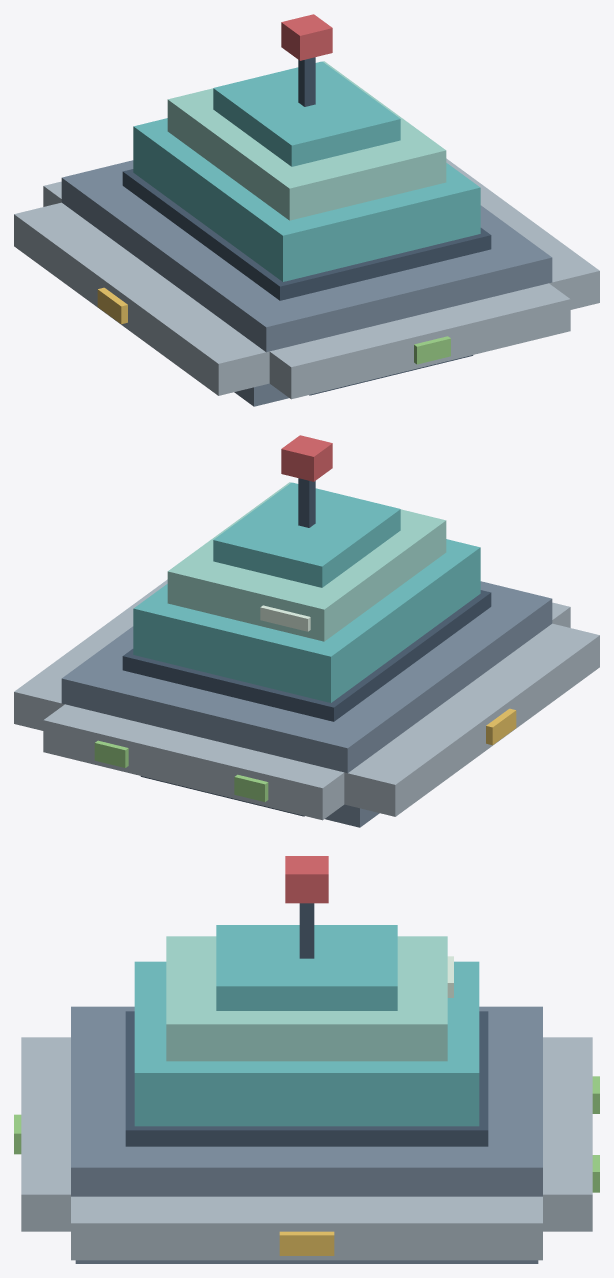
File: ufo_hat.glb
3 renders of one model, top to bottom at view 1: azimuth 30°, elevation 25°; view 2: azimuth 150°, elevation 25°; view 3: azimuth 270°, elevation 25°, orthographic. The views are drawn at different scales.
Parts seen in each view (by area): view 1: upper_saucer, cockpit_lower, wide_saucer_rim, cockpit_upper, back_saucer_rim, cockpit_top, cockpit_frame, antenna_beacon, antenna, rear_green_light, left_amber_light, saucer_belly; view 2: upper_saucer, cockpit_lower, wide_saucer_rim, cockpit_upper, front_saucer_rim, cockpit_top, cockpit_frame, antenna_beacon, antenna, cockpit_highlight, front_green_light_left, front_green_light_right (+2 smaller); view 3: upper_saucer, wide_saucer_rim, cockpit_lower, cockpit_upper, cockpit_top, cockpit_frame, front_saucer_rim, back_saucer_rim, antenna_beacon, saucer_belly, right_amber_light, antenna.
Boxes of the visible parts, x1,y1,x2,y2 form: upper_saucer: (61,160,552,352); cockpit_lower: (133,118,480,281); wide_saucer_rim: (14,158,599,395); cockpit_upper: (167,61,446,220); back_saucer_rim: (269,283,570,399); cockpit_top: (213,61,400,166); cockpit_frame: (122,169,491,300); antenna_beacon: (281,14,332,60); antenna: (298,57,315,106); rear_green_light: (414,336,450,364); left_amber_light: (97,287,127,324); saucer_belly: (234,383,288,406); upper_saucer: (61,581,552,773); cockpit_lower: (133,539,480,702); wide_saucer_rim: (14,579,599,816); cockpit_upper: (167,482,446,641); front_saucer_rim: (43,704,344,820); cockpit_top: (213,482,400,587); cockpit_frame: (122,590,491,721); antenna_beacon: (281,435,332,481); antenna: (298,478,315,527); cockpit_highlight: (260,605,310,631); front_green_light_left: (234,774,268,801); front_green_light_right: (94,740,128,767); upper_saucer: (71,1006,542,1196); wide_saucer_rim: (71,1196,542,1260); cockpit_lower: (134,961,479,1126); cockpit_upper: (166,936,447,1061); cockpit_top: (216,925,397,1010); cockpit_frame: (125,1011,488,1146); front_saucer_rim: (543,1037,592,1231); back_saucer_rim: (21,1037,70,1231); antenna_beacon: (285,856,328,903); saucer_belly: (75,1260,538,1263); right_amber_light: (279,1231,334,1255); antenna: (299,903,314,958).
Size of the model in its own units: 0.3625 by 0.2531 by 0.4038.
